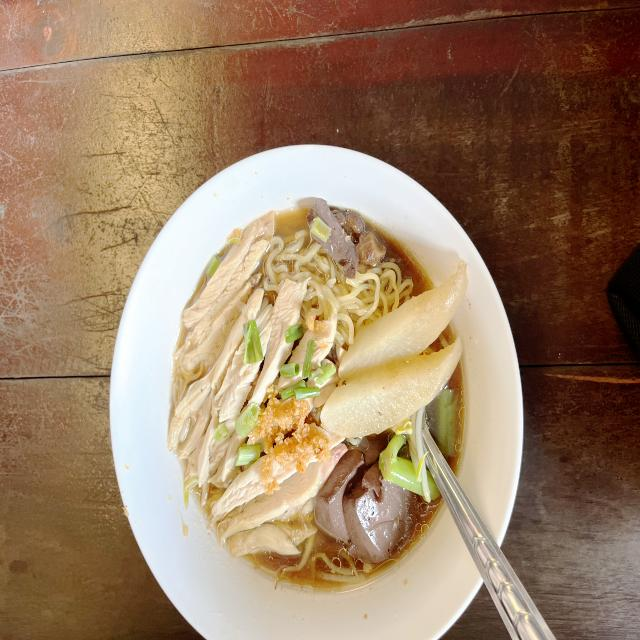boiled_chicken_blood_jelly: (321, 452, 404, 545)
chicken_shredded: (178, 237, 311, 536)
daikon_radish: (335, 262, 472, 376), (328, 336, 462, 436)
noodle: (163, 187, 493, 608)
